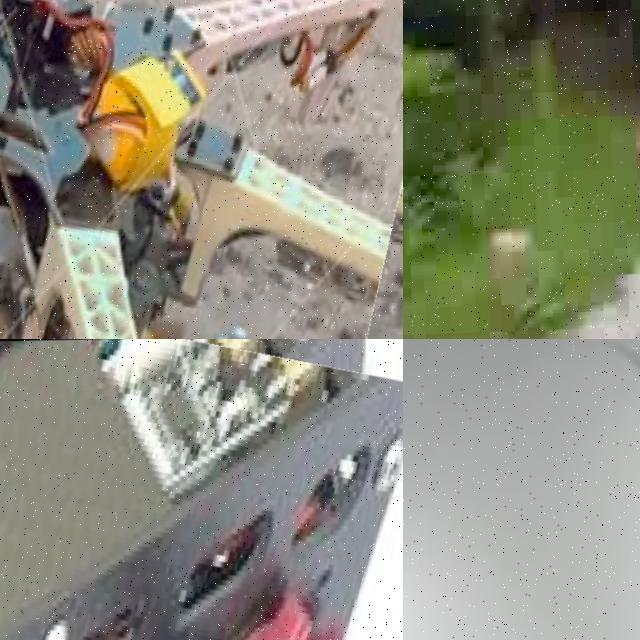drone: (0, 0, 403, 339), (0, 339, 403, 640), (403, 339, 640, 640)
